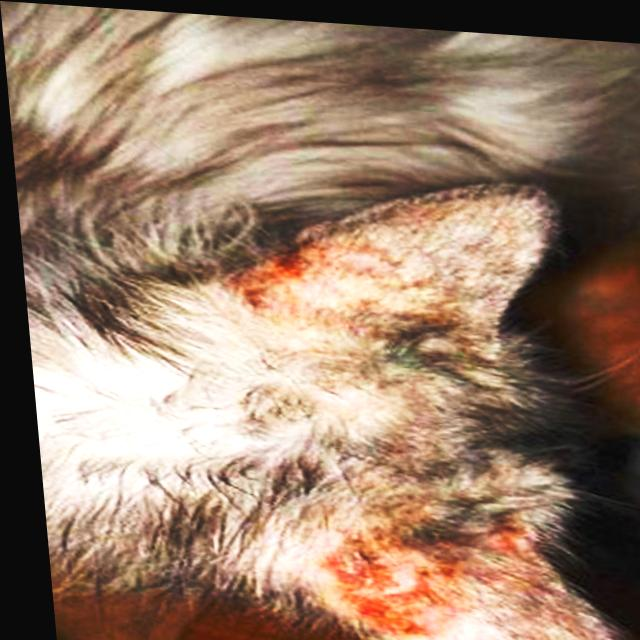ringworm: (336, 525, 460, 633), (225, 235, 312, 305), (476, 519, 531, 555)
